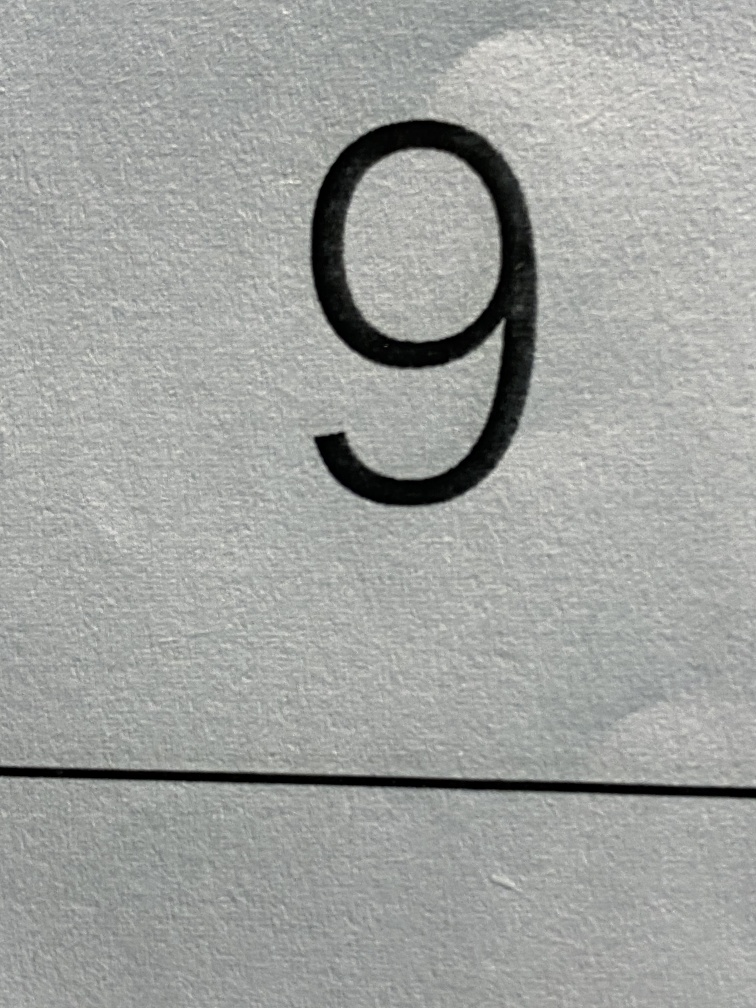nine: (235, 76, 593, 589)
